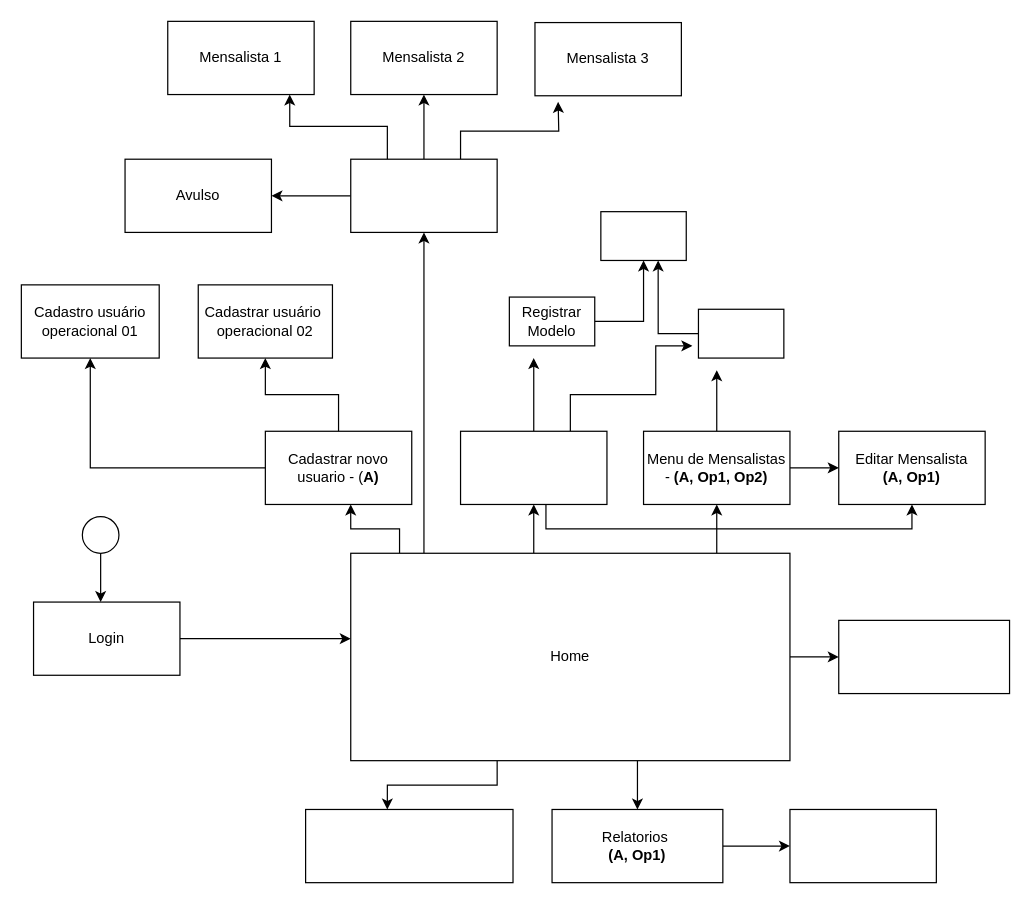
Image size: 1031x904. Some labels were removed from this diagram. The box of each missing label's shape, as (x1, y1, x2, y2) in pixels:
Cadastrar Mensalista: (697, 308, 784, 358)
Configurar Valor Cobrança: (350, 158, 497, 232)
Fechar caixa (A, Op1): (838, 619, 1010, 694)
Liberar Saída Manual (A, Op1, Op2): (304, 808, 513, 883)
Modelos de Relatório: (789, 808, 936, 883)
Pagamento: (600, 210, 686, 260)
Registrar (A, Op1, Op2): (459, 430, 607, 504)
